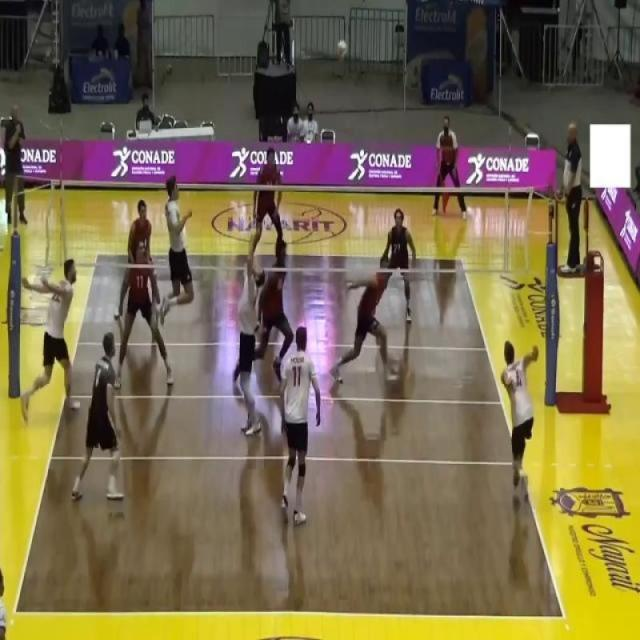volleyball: (336, 40, 348, 62)
